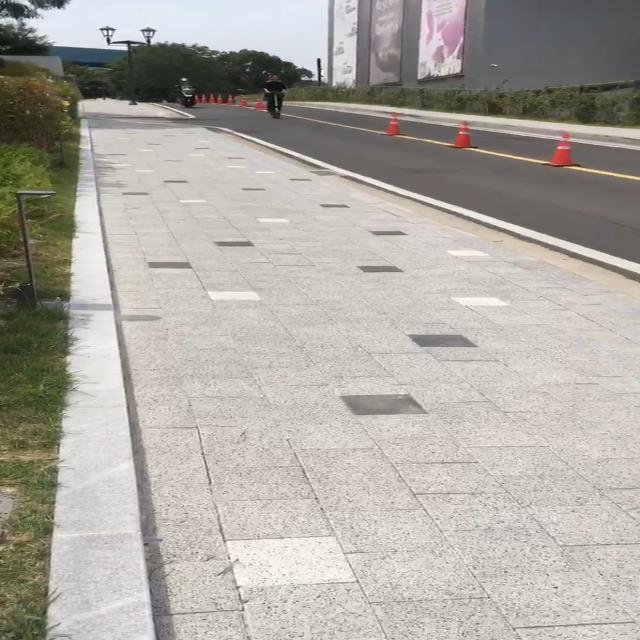obstacle: (531, 129, 589, 167), (253, 69, 290, 120), (442, 112, 476, 151), (375, 107, 409, 136), (173, 73, 200, 106)
sidewalk: (300, 101, 640, 146), (79, 100, 187, 117)
